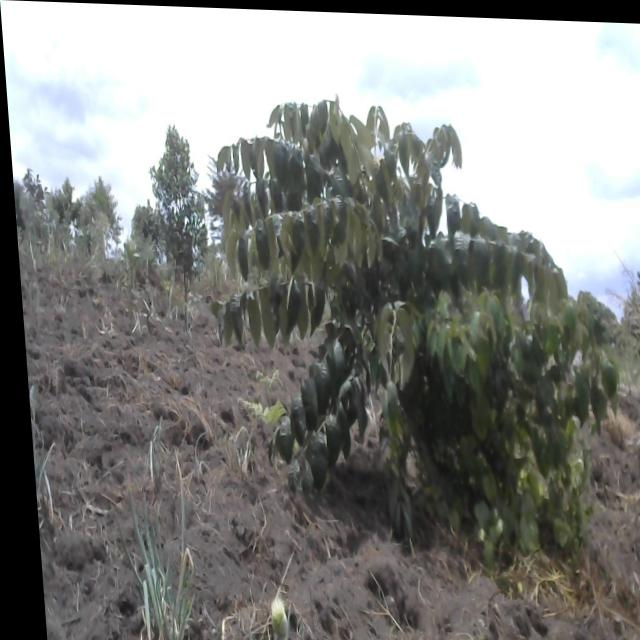Polyscias fulva: (207, 74, 627, 544)
other: (142, 131, 214, 323)
